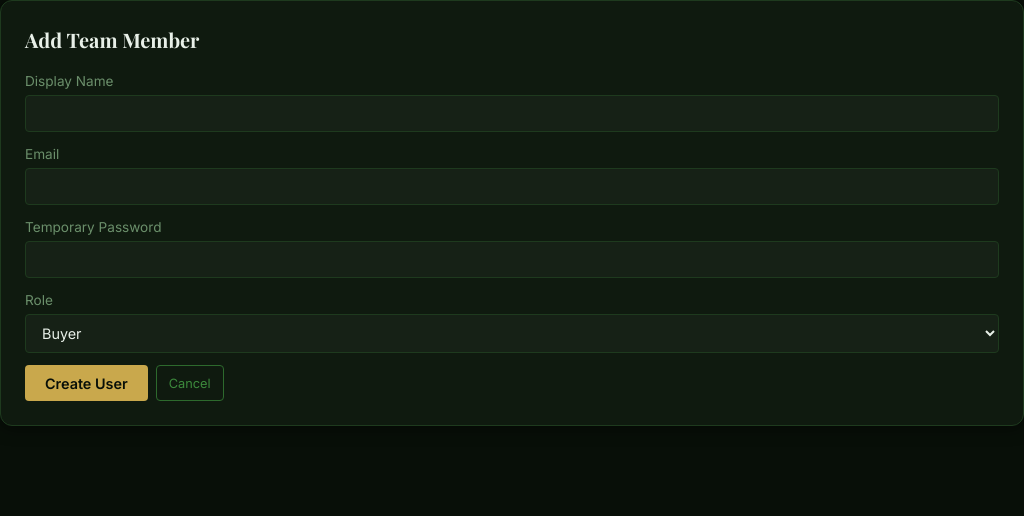
Test: CreateUserForm › shows validation errors for empty submission
The width and height of the screenshot is (1024, 516).
Click the button "Create User": (86, 383) x1=25 y1=365 x2=148 y2=401
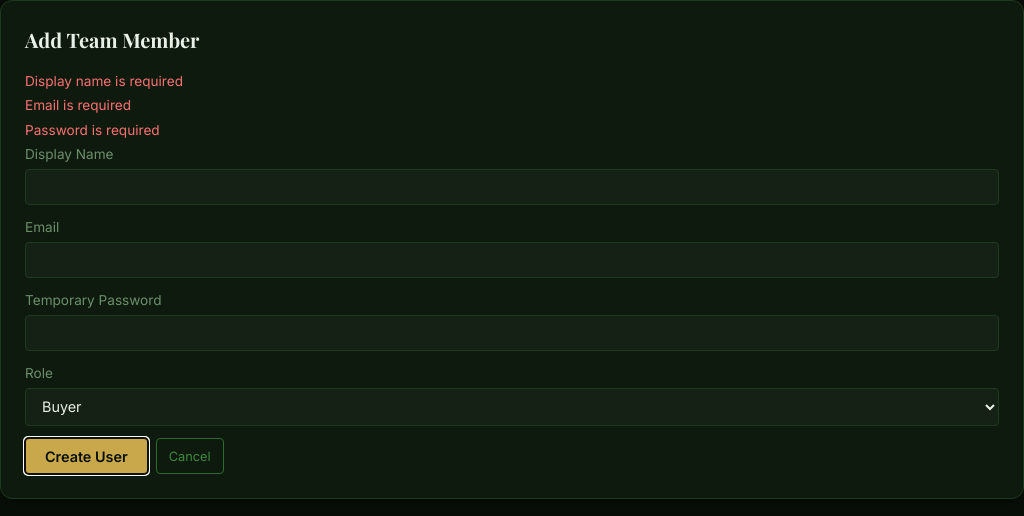
Check: the text "Display name is required" is shown, box x1=25 y1=73 x2=183 y2=89
Check: the text "Email is required" is shown, box x1=25 y1=97 x2=131 y2=113
Check: the text "Password is required" is shown, box x1=25 y1=122 x2=160 y2=138
